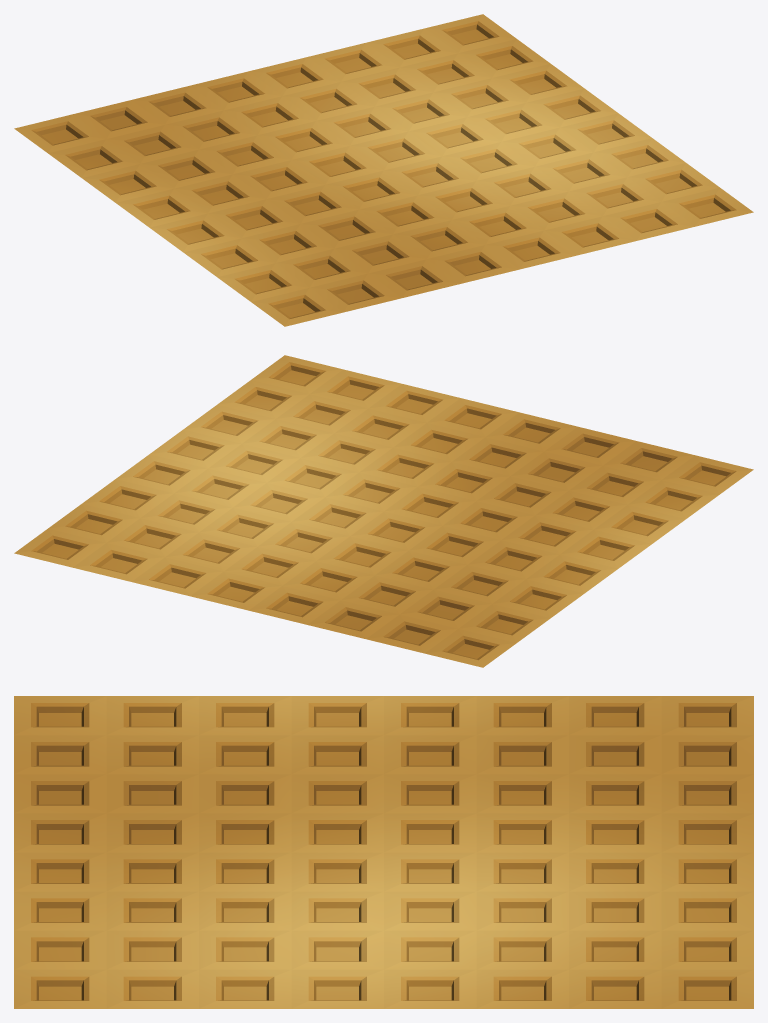
The model's file is GroundGoldTile.glb.
3 renders of one model, top to bottom at view 1: azimuth 30°, elevation 25°; view 2: azimuth 150°, elevation 25°; view 3: azimuth 270°, elevation 25°, orthographic. The views are drawn at different scales.
Visible parts, largest first — view 1: GroundGoldTile; view 2: GroundGoldTile; view 3: GroundGoldTile.
Boxes of the visible parts, x1,y1,x2,y2 form: GroundGoldTile: (14,14,753,326); GroundGoldTile: (14,355,753,667); GroundGoldTile: (14,696,753,1008).
Bounding box in the file's own units: 16 × 0.16 × 16.
1 material, 1 textured.
